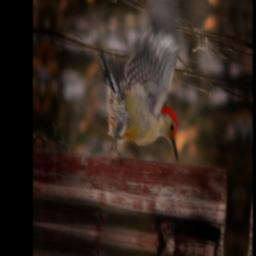Woodpecker: (92, 0, 191, 164)
